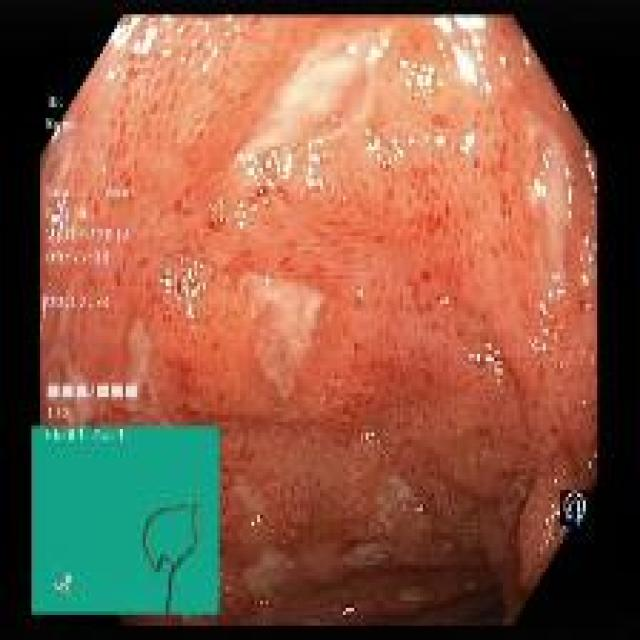ulcerative-colitis: (40, 17, 598, 624)
